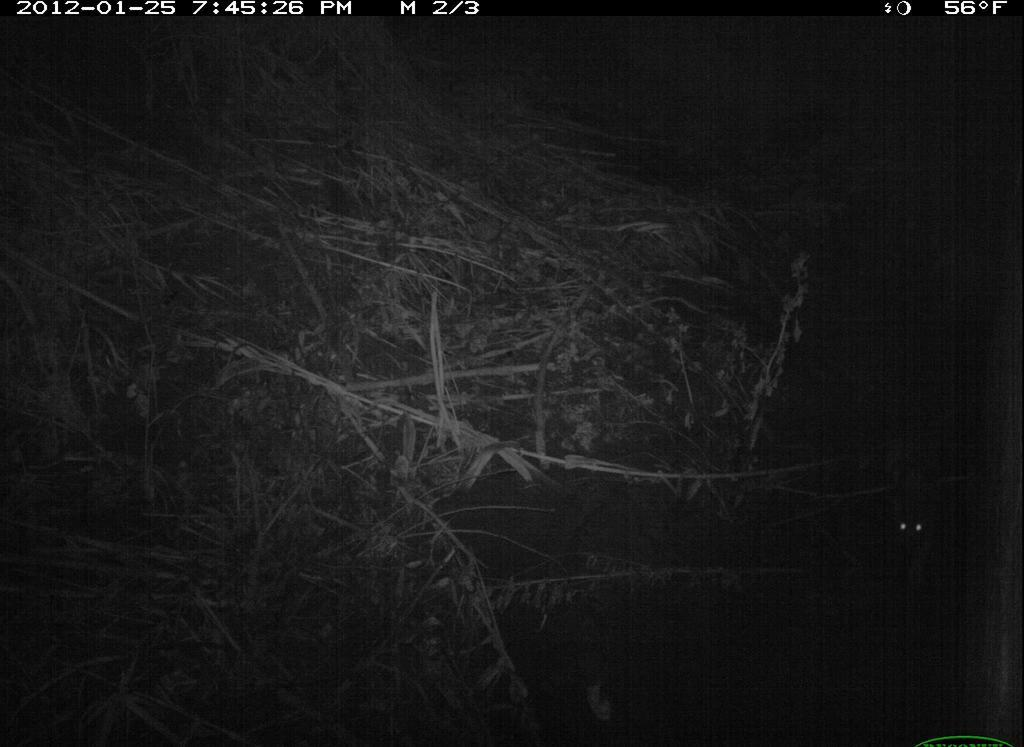bobcat: (873, 477, 955, 598)
